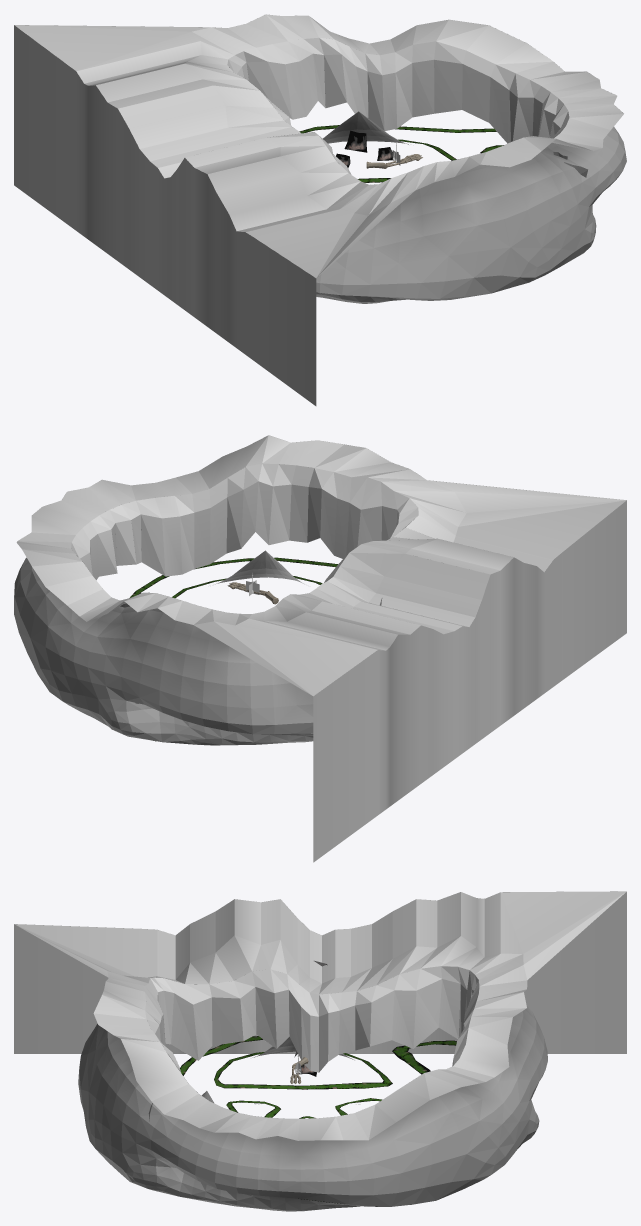
The model's file is arena.glb.
The picture shows the model from 3 angles, top to bottom: view 1: azimuth 30°, elevation 25°; view 2: azimuth 150°, elevation 25°; view 3: azimuth 270°, elevation 25°; orthographic projection. The views are drawn at different scales.
Parts seen in each view (by area): view 1: mesh_3, mesh_1, mesh_9, mesh_0; view 2: mesh_3, mesh_1, mesh_9; view 3: mesh_3, mesh_1, mesh_9.
Part boxes in pixels (box(x1,y1,x2,y2)): mesh_3: box(14, 14, 623, 406); mesh_1: box(316, 111, 626, 303); mesh_9: box(299, 125, 503, 182); mesh_0: box(336, 130, 392, 167); mesh_3: box(16, 435, 626, 862); mesh_1: box(14, 550, 382, 745); mesh_9: box(130, 557, 337, 741); mesh_3: box(14, 891, 626, 1140); mesh_1: box(78, 960, 547, 1211); mesh_9: box(180, 1036, 518, 1206).
Bounding box in the file's own units: 143 × 51.31 × 175.
3 materials, 3 textured.
